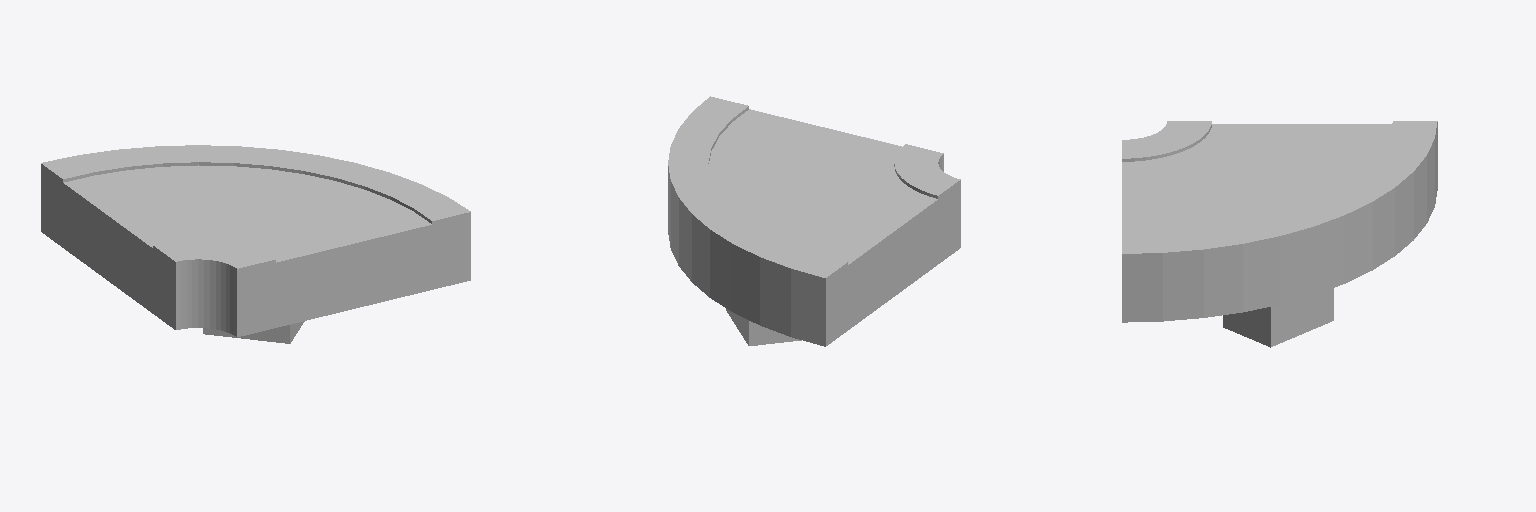
The model's file is tile204.obj.
3 renders of one model, left to right at view 1: azimuth 30°, elevation 25°; view 2: azimuth 150°, elevation 25°; view 3: azimuth 270°, elevation 25°, orthographic.
Parts seen in each view (by area): view 1: tile204; view 2: tile204; view 3: tile204.
Part boxes in pixels (bbox=[...]): tile204: bbox=[41, 145, 470, 343]; tile204: bbox=[668, 96, 960, 346]; tile204: bbox=[1122, 121, 1437, 347].
Bounding box in the file's own units: 0.875 × 0.42 × 0.875.